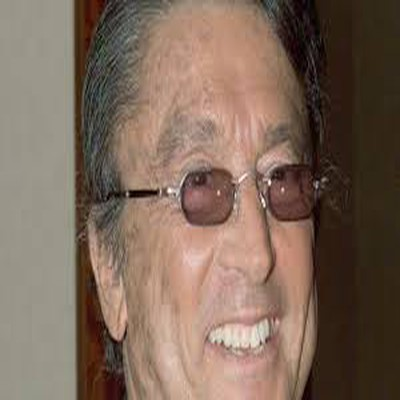eywear: (124, 139, 344, 230)
